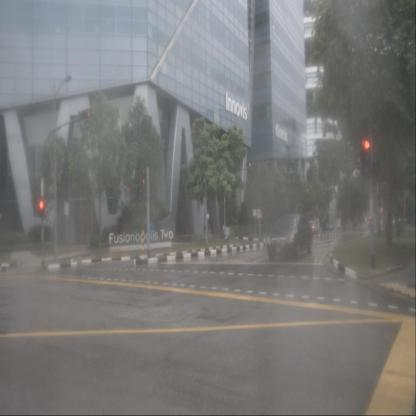vehicle-car: (266, 213, 313, 261), (306, 221, 316, 233)
